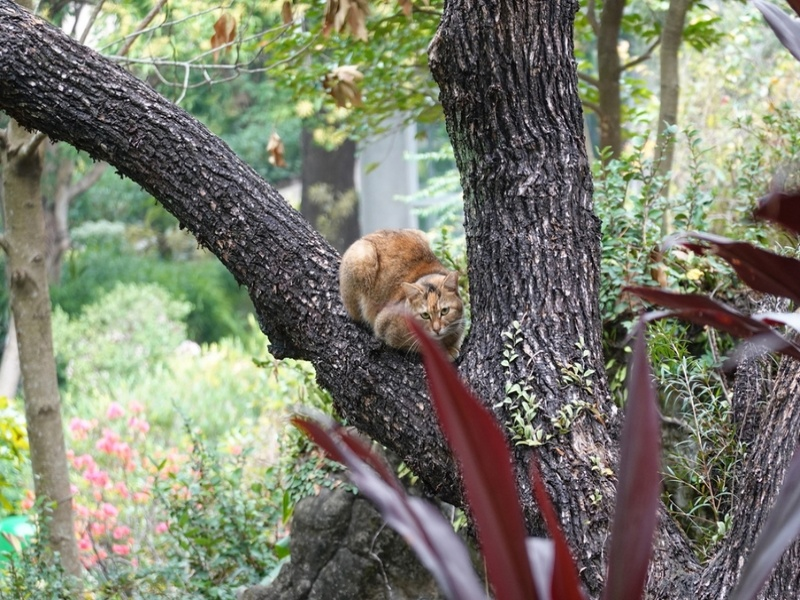cat: (330, 226, 469, 373)
